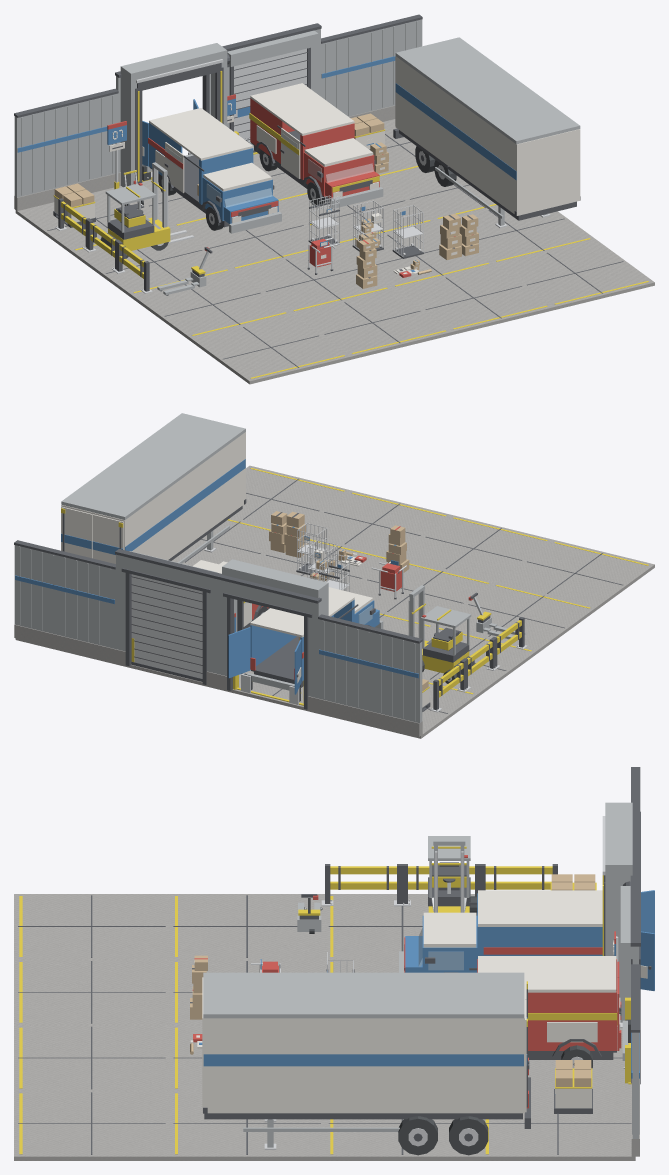
Rendered from depot-dock-and-yard.glb.
The picture shows the model from 3 angles, top to bottom: view 1: azimuth 30°, elevation 25°; view 2: azimuth 150°, elevation 25°; view 3: azimuth 270°, elevation 25°; orthographic projection. The views are drawn at different scales.
Parts seen in each view (by area): view 1: 027-parcel-depot-and-sorting-hall-box-lorry-trailer/1, 027-parcel-depot-and-sorting-hall-box-lorry-trailer/2, 016-parcel-depot-and-sorting-hall-hall-wall-module/1, 003-parcel-depot-and-sorting-hall-hall-floor-tile/0, 019-parcel-depot-and-sorting-hall-roller-shutter-door-module (×3), 015-parcel-depot-and-sorting-hall-hall-floor-tile/0, 007-parcel-depot-and-sorting-hall-hall-floor-tile/0, 011-parcel-depot-and-sorting-hall-hall-floor-tile/0, 017-parcel-depot-and-sorting-hall-hall-wall-module/1, 002-parcel-depot-and-sorting-hall-hall-floor-tile/0, 006-parcel-depot-and-sorting-hall-hall-floor-tile/0, 026-parcel-depot-and-sorting-hall-delivery-van-red/2 (+39 smaller); view 2: 019-parcel-depot-and-sorting-hall-roller-shutter-door-module (×3), 027-parcel-depot-and-sorting-hall-box-lorry-trailer/2, 016-parcel-depot-and-sorting-hall-hall-wall-module/1, 017-parcel-depot-and-sorting-hall-hall-wall-module/1, 027-parcel-depot-and-sorting-hall-box-lorry-trailer/1, 003-parcel-depot-and-sorting-hall-hall-floor-tile/0, 007-parcel-depot-and-sorting-hall-hall-floor-tile/0, 011-parcel-depot-and-sorting-hall-hall-floor-tile/0, 002-parcel-depot-and-sorting-hall-hall-floor-tile/0, 006-parcel-depot-and-sorting-hall-hall-floor-tile/0, 015-parcel-depot-and-sorting-hall-hall-floor-tile/0, 018-parcel-depot-and-sorting-hall-roller-shutter-door-open/1 (+29 smaller); view 3: 027-parcel-depot-and-sorting-hall-box-lorry-trailer/1, 027-parcel-depot-and-sorting-hall-box-lorry-trailer/2, 015-parcel-depot-and-sorting-hall-hall-floor-tile/0, 007-parcel-depot-and-sorting-hall-hall-floor-tile/0, 011-parcel-depot-and-sorting-hall-hall-floor-tile/0, 003-parcel-depot-and-sorting-hall-hall-floor-tile/0, 002-parcel-depot-and-sorting-hall-hall-floor-tile/0, 012-parcel-depot-and-sorting-hall-hall-floor-tile/0, 014-parcel-depot-and-sorting-hall-hall-floor-tile/0, 025-parcel-depot-and-sorting-hall-delivery-van-open/2, 001-parcel-depot-and-sorting-hall-hall-floor-tile/0, 026-parcel-depot-and-sorting-hall-delivery-van-red/2 (+29 smaller).
Boxes of the visible parts, bbox=[...] form: 027-parcel-depot-and-sorting-hall-box-lorry-trailer/1: bbox=[395, 56, 580, 215]; 027-parcel-depot-and-sorting-hall-box-lorry-trailer/2: bbox=[395, 37, 580, 225]; 016-parcel-depot-and-sorting-hall-hall-wall-module/1: bbox=[14, 93, 118, 197]; 003-parcel-depot-and-sorting-hall-hall-floor-tile/0: bbox=[191, 314, 350, 384]; 019-parcel-depot-and-sorting-hall-roller-shutter-door-module (×3): bbox=[222, 23, 321, 150]; 015-parcel-depot-and-sorting-hall-hall-floor-tile/0: bbox=[495, 239, 654, 309]; 007-parcel-depot-and-sorting-hall-hall-floor-tile/0: bbox=[293, 289, 452, 359]; 011-parcel-depot-and-sorting-hall-hall-floor-tile/0: bbox=[394, 264, 553, 334]; 017-parcel-depot-and-sorting-hall-hall-wall-module/1: bbox=[321, 19, 422, 116]; 002-parcel-depot-and-sorting-hall-hall-floor-tile/0: bbox=[132, 271, 291, 341]; 006-parcel-depot-and-sorting-hall-hall-floor-tile/0: bbox=[234, 246, 393, 313]; 026-parcel-depot-and-sorting-hall-delivery-van-red/2: bbox=[250, 83, 378, 198]; 019-parcel-depot-and-sorting-hall-roller-shutter-door-module (×3): bbox=[115, 549, 219, 684]; 027-parcel-depot-and-sorting-hall-box-lorry-trailer/2: bbox=[61, 413, 245, 563]; 016-parcel-depot-and-sorting-hall-hall-wall-module/1: bbox=[318, 619, 422, 723]; 017-parcel-depot-and-sorting-hall-hall-wall-module/1: bbox=[14, 545, 115, 648]; 027-parcel-depot-and-sorting-hall-box-lorry-trailer/1: bbox=[61, 432, 245, 559]; 003-parcel-depot-and-sorting-hall-hall-floor-tile/0: bbox=[495, 540, 654, 609]; 007-parcel-depot-and-sorting-hall-hall-floor-tile/0: bbox=[406, 515, 553, 582]; 011-parcel-depot-and-sorting-hall-hall-floor-tile/0: bbox=[305, 490, 451, 555]; 002-parcel-depot-and-sorting-hall-hall-floor-tile/0: bbox=[439, 582, 596, 652]; 006-parcel-depot-and-sorting-hall-hall-floor-tile/0: bbox=[348, 561, 494, 624]; 015-parcel-depot-and-sorting-hall-hall-floor-tile/0: bbox=[230, 465, 350, 527]; 018-parcel-depot-and-sorting-hall-roller-shutter-door-open/1: bbox=[217, 579, 320, 698]; 027-parcel-depot-and-sorting-hall-box-lorry-trailer/1: bbox=[202, 977, 524, 1113]; 027-parcel-depot-and-sorting-hall-box-lorry-trailer/2: bbox=[203, 972, 524, 1147]; 015-parcel-depot-and-sorting-hall-hall-floor-tile/0: bbox=[14, 1091, 169, 1160]; 007-parcel-depot-and-sorting-hall-hall-floor-tile/0: bbox=[14, 959, 169, 1025]; 011-parcel-depot-and-sorting-hall-hall-floor-tile/0: bbox=[14, 1025, 169, 1090]; 003-parcel-depot-and-sorting-hall-hall-floor-tile/0: bbox=[14, 894, 169, 959]; 002-parcel-depot-and-sorting-hall-hall-floor-tile/0: bbox=[169, 894, 324, 959]; 012-parcel-depot-and-sorting-hall-hall-floor-tile/0: bbox=[480, 1091, 635, 1160]; 014-parcel-depot-and-sorting-hall-hall-floor-tile/0: bbox=[169, 1091, 324, 1160]; 025-parcel-depot-and-sorting-hall-delivery-van-open/2: bbox=[404, 890, 602, 972]; 001-parcel-depot-and-sorting-hall-hall-floor-tile/0: bbox=[325, 894, 474, 959]; 026-parcel-depot-and-sorting-hall-delivery-van-red/2: bbox=[478, 956, 616, 1042].
Bounding box in the file's own units: 16 × 4.62 × 16.49.
11 materials, 1 textured.
